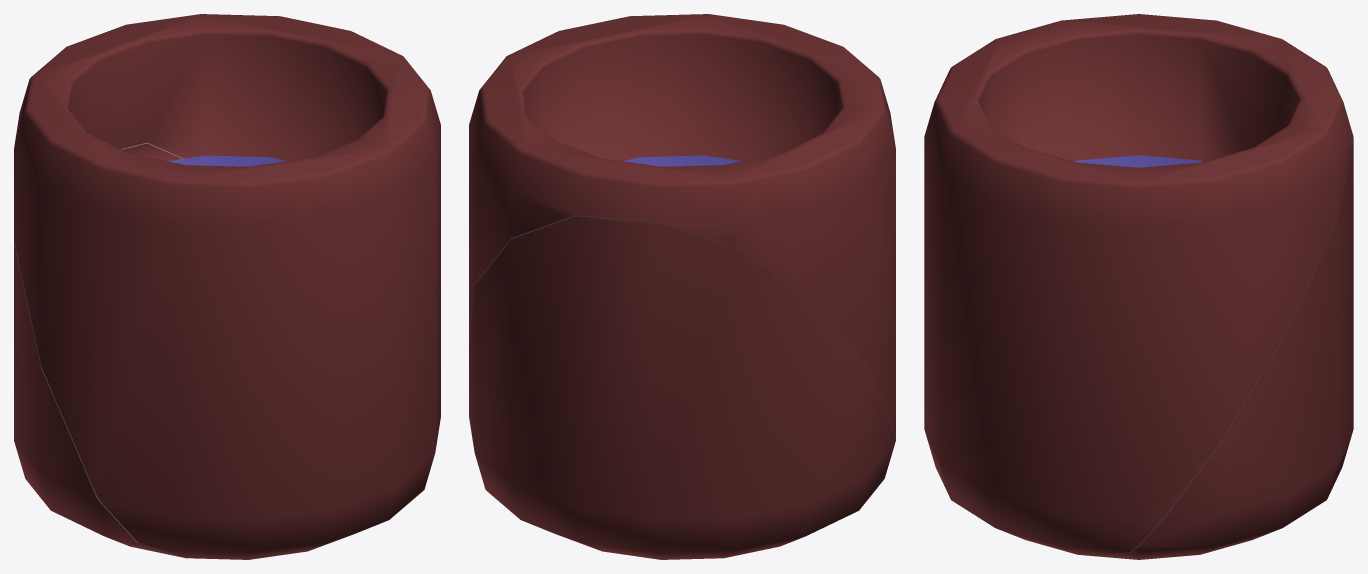
The model's file is vaso.fbx.
3 views of the same model, side by side, from view 1: azimuth 30°, elevation 25°; view 2: azimuth 150°, elevation 25°; view 3: azimuth 270°, elevation 25° (orthographic).
Visible parts, largest first — view 1: Vaso_cell, Vaso_cell.001; view 2: Vaso_cell.001, Vaso_cell; view 3: Vaso_cell, Vaso_cell.001.
Boxes of the visible parts, box(x1,y1,x2,y2) form: Vaso_cell: box(14, 14, 440, 559); Vaso_cell.001: box(14, 142, 188, 558); Vaso_cell.001: box(469, 216, 895, 559); Vaso_cell: box(469, 14, 895, 435); Vaso_cell: box(924, 14, 1353, 556); Vaso_cell.001: box(1096, 137, 1353, 559).
Bounding box in the file's own units: 44.94 × 45.47 × 44.94.
